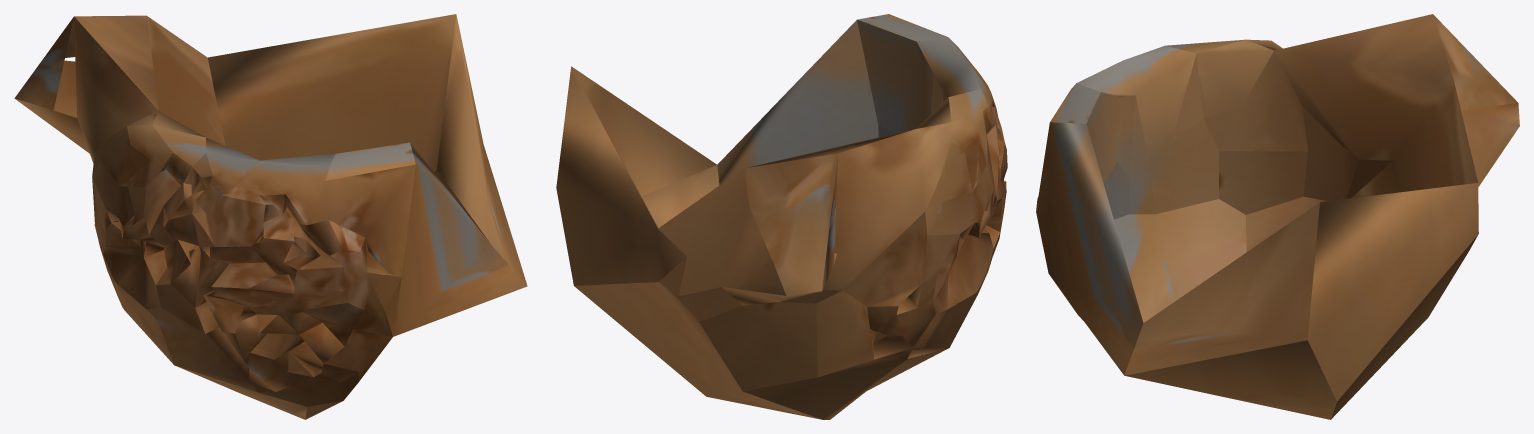
File: WaterCup_lod.glb
3 views of the same model, side by side, from view 1: azimuth 30°, elevation 25°; view 2: azimuth 150°, elevation 25°; view 3: azimuth 270°, elevation 25° (orthographic). The views are drawn at different scales.
Visible parts, largest first — view 1: WaterCup; view 2: WaterCup; view 3: WaterCup.
Boxes of the visible parts, x1,y1,x2,y2 form: WaterCup: (14, 14, 527, 419); WaterCup: (556, 14, 1007, 419); WaterCup: (1036, 14, 1519, 419).
Bounding box in the file's own units: 0.8422 × 0.6694 × 0.9219.
Materials: 1 (1 with a texture image).
